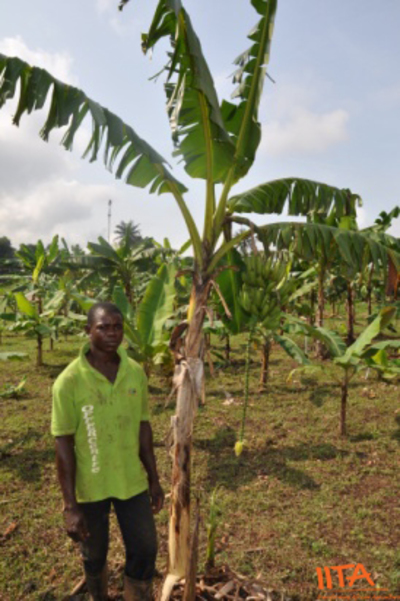bananaHand: (236, 245, 303, 327)
